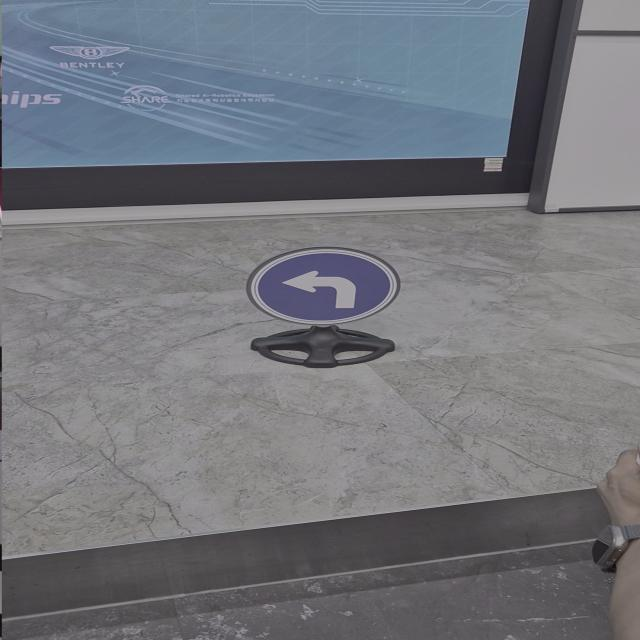left_direction: (238, 249, 402, 323)
